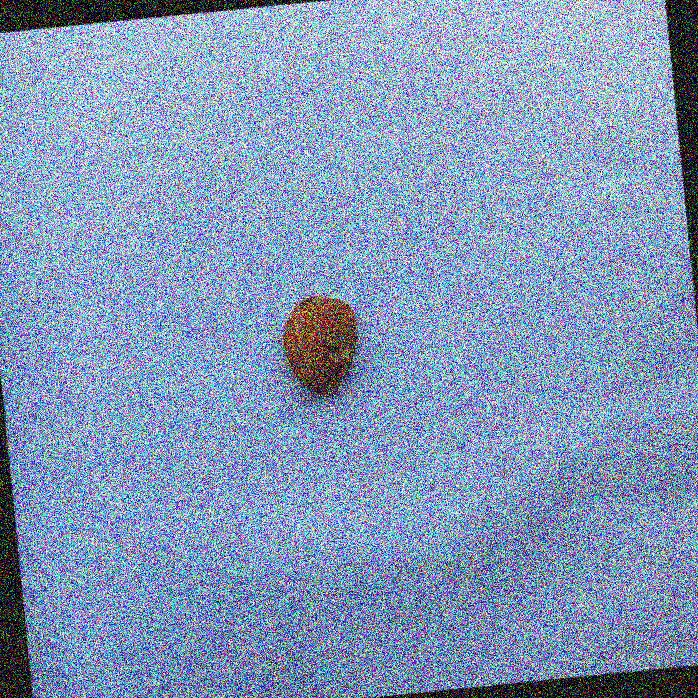grade3: (277, 288, 369, 403)
